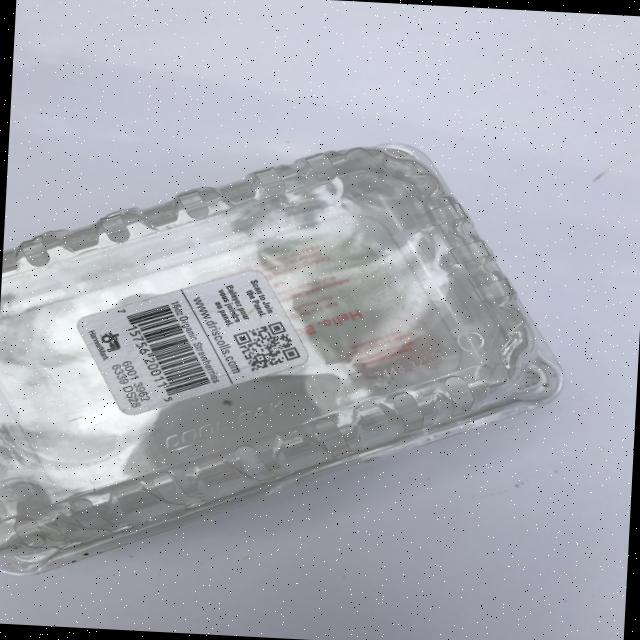plastic: (0, 121, 576, 604)
